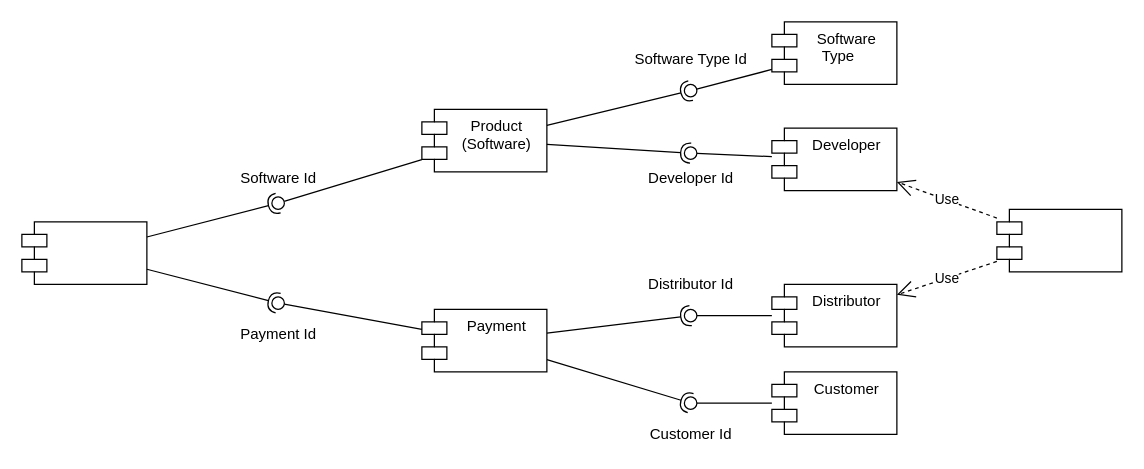
The diagram is 1144 pixels wide and 469 high, and some of its shapes have lost their labels. The centre of each missing label's shape, as x and y in pixels:
"Organization" goes at (1059,240).
"Shopping Basket" goes at (84,252).
